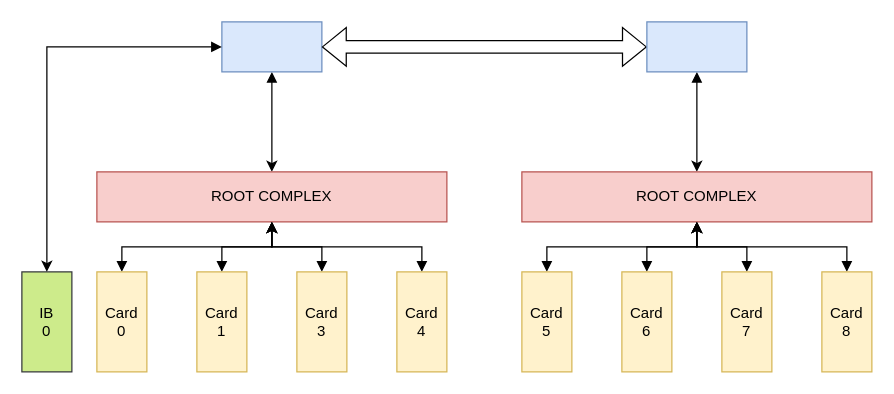
The diagram is 894 pixels wide and 394 high, and some of its shapes have lost their labels. The centre of each missing label's shape, as x and y in pixels:
CPU 1: the point at 271,46
CPU 2: the point at 696,46
